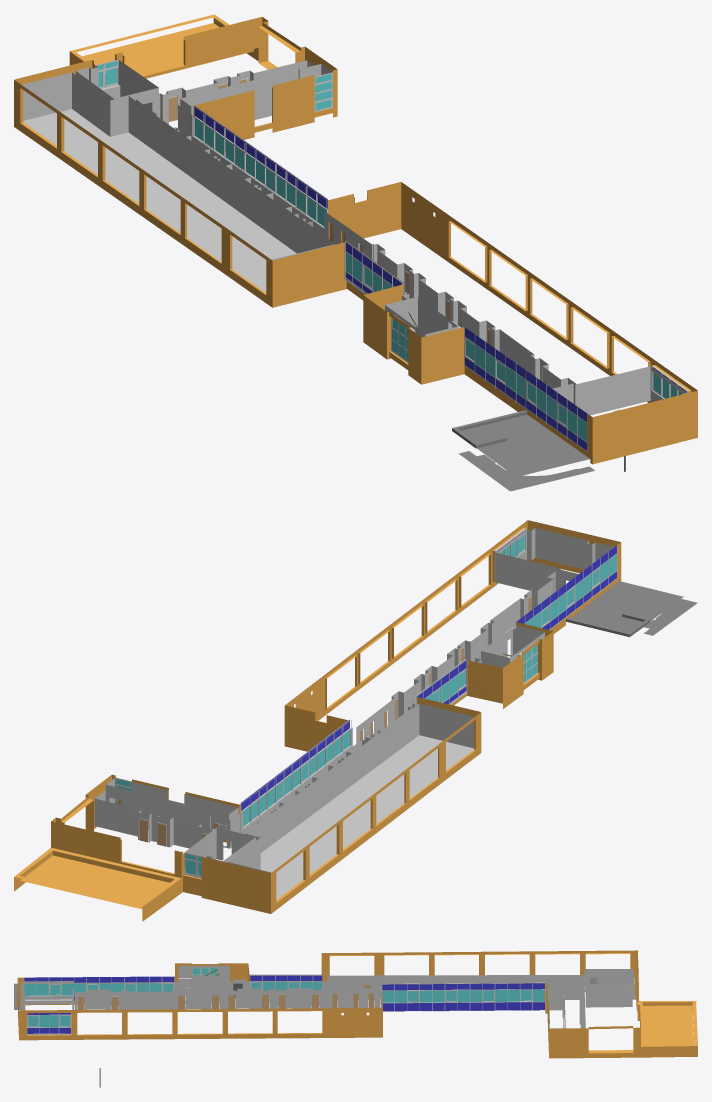
3 renders of one model, top to bottom at view 1: azimuth 30°, elevation 25°; view 2: azimuth 150°, elevation 25°; view 3: azimuth 270°, elevation 25°, orthographic. The views are drawn at different scales.
Visible parts, largest first — view 1: stena024, stena024.501, stena024.268, stena024.506, stena024.119, stena024.314, stena024.267, stena024.341, stena024.271, stena024.344, stena024.342; view 2: stena024, stena024.501, stena024.268, stena024.267, stena024.506, stena024.314, stena024.119, stena024.341, stena024.342, stena024.344, stena024.271; view 3: stena024, stena024.268, stena024.314, stena024.119, stena024.344, stena024.501, stena024.271, stena024.257, stena024.267, stena024.342, stena024.341.
Part boxes in pixels (left/top/right/bottom): stena024: left=14, top=14, right=697, bottom=464; stena024.501: left=21, top=72, right=334, bottom=292; stena024.268: left=136, top=60, right=576, bottom=398; stena024.506: left=452, top=410, right=594, bottom=491; stena024.119: left=464, top=327, right=588, bottom=452; stena024.314: left=193, top=106, right=327, bottom=227; stena024.267: left=552, top=366, right=687, bottom=415; stena024.341: left=180, top=64, right=331, bottom=126; stena024.271: left=344, top=240, right=404, bottom=294; stena024.344: left=75, top=60, right=158, bottom=111; stena024.342: left=385, top=296, right=460, bottom=337; stena024: left=14, top=520, right=621, bottom=921; stena024.501: left=227, top=703, right=473, bottom=899; stena024.268: left=94, top=571, right=555, bottom=860; stena024.267: left=496, top=528, right=613, bottom=591; stena024.506: left=566, top=581, right=697, bottom=637; stena024.314: left=240, top=720, right=351, bottom=827; stena024.119: left=515, top=545, right=617, bottom=629; stena024.341: left=105, top=777, right=238, bottom=848; stena024.342: left=481, top=625, right=544, bottom=667; stena024.344: left=185, top=827, right=255, bottom=862; stena024.271: left=415, top=659, right=467, bottom=705; stena024: left=17, top=950, right=697, bottom=1058; stena024.268: left=75, top=979, right=585, bottom=1028; stena024.314: left=382, top=982, right=545, bottom=1011; stena024.119: left=23, top=976, right=174, bottom=1001; stena024.344: left=585, top=970, right=634, bottom=1007; stena024.501: left=327, top=969, right=632, bottom=998; stena024.271: left=250, top=974, right=322, bottom=990; stena024.257: left=27, top=1013, right=71, bottom=1034; stena024.267: left=21, top=981, right=74, bottom=1010; stena024.342: left=178, top=965, right=229, bottom=1003; stena024.341: left=549, top=984, right=564, bottom=1028.
Bounding box in the file's own units: 2211 × 1061 × 8181.
